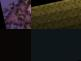arrow: (0, 29, 31, 61)
crimera: (0, 0, 31, 29)
